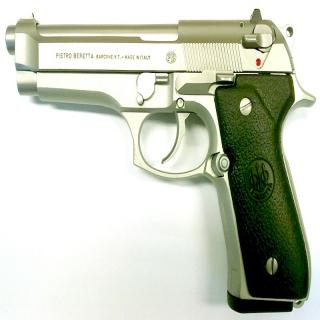gun: (2, 3, 312, 316)
